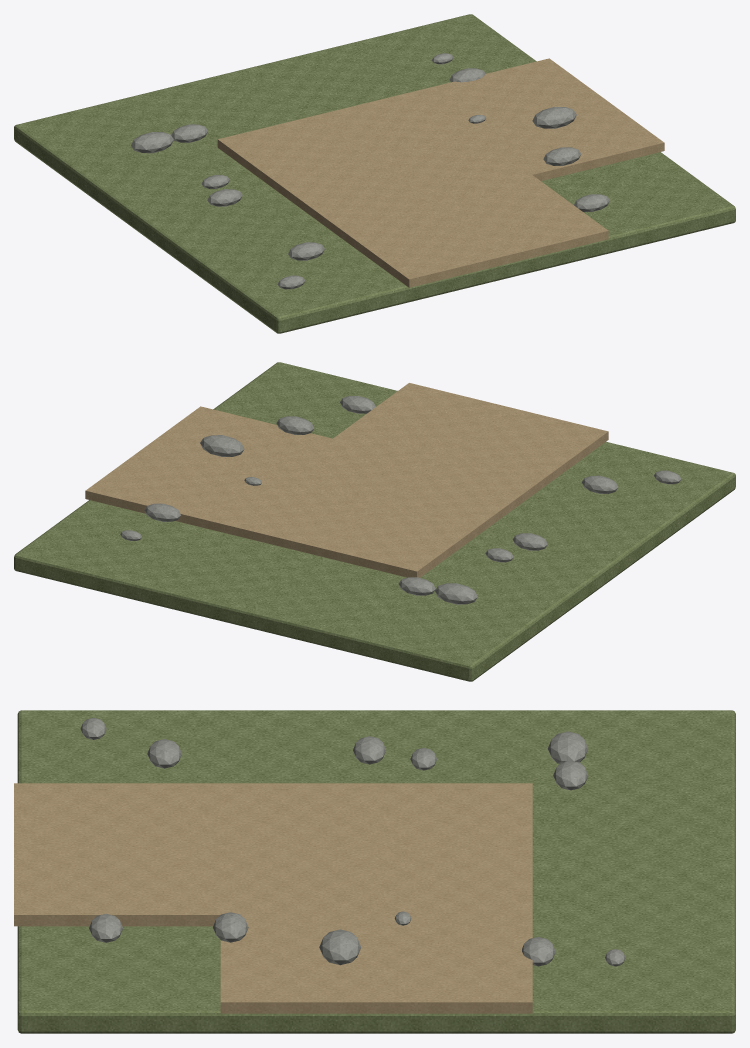
Rendered from ROAD_DIRT_1x1_CORNER.glb.
3 renders of one model, top to bottom at view 1: azimuth 30°, elevation 25°; view 2: azimuth 150°, elevation 25°; view 3: azimuth 270°, elevation 25°, orthographic. The views are drawn at different scales.
Visible parts, largest first — view 1: ROAD_DIRT_1x1_CORNER_Visual; view 2: ROAD_DIRT_1x1_CORNER_Visual; view 3: ROAD_DIRT_1x1_CORNER_Visual.
Boxes of the visible parts, left/top/right/bottom form: ROAD_DIRT_1x1_CORNER_Visual: left=14, top=14, right=735, bottom=333; ROAD_DIRT_1x1_CORNER_Visual: left=14, top=362, right=735, bottom=681; ROAD_DIRT_1x1_CORNER_Visual: left=14, top=710, right=735, bottom=1033.
Size of what is drawn, in the model's own units: 1.99 by 0.1754 by 1.99.
Materials: 3 (3 with a texture image).
